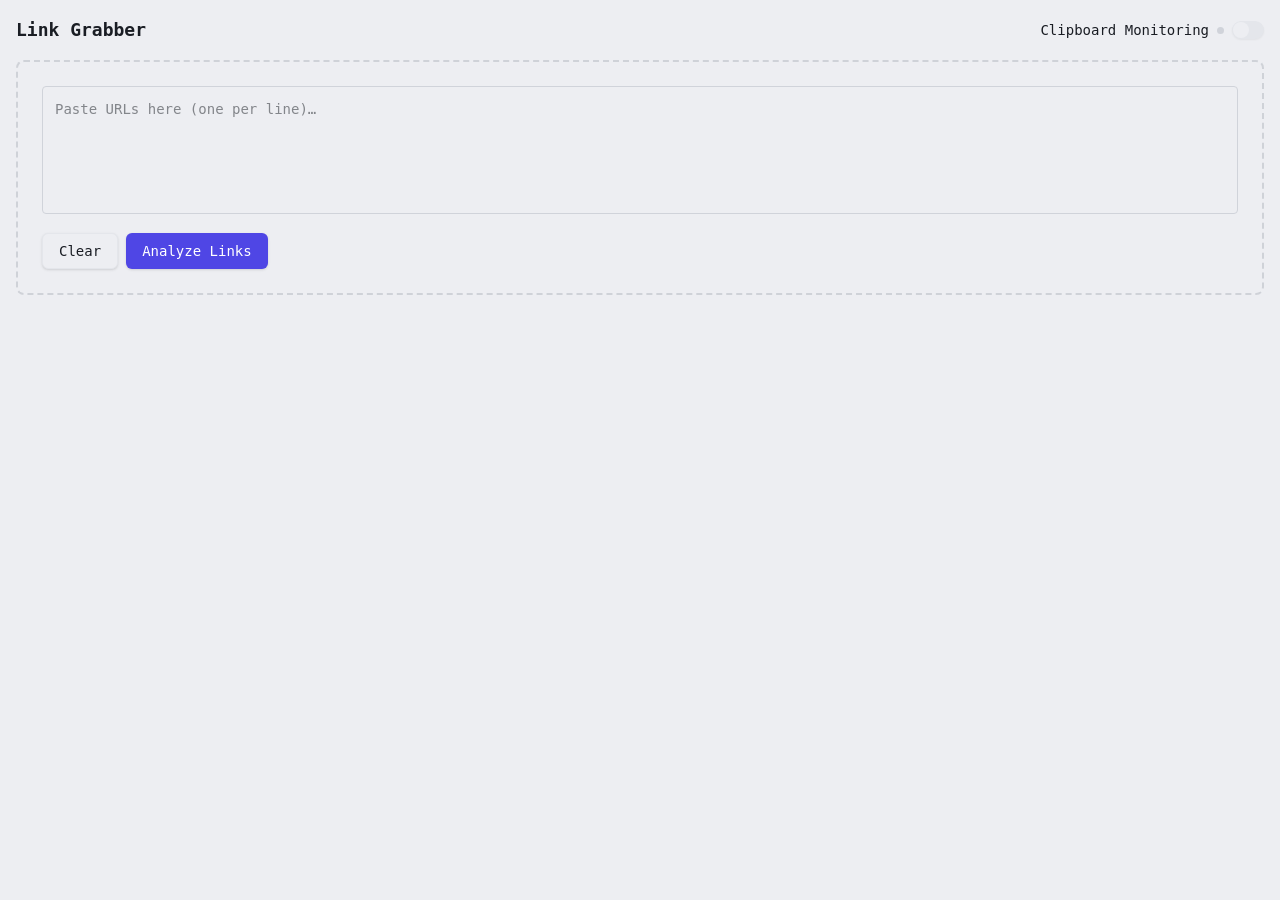
it: LinkGrabberView › keeps plugin statuses authoritative instead of probing hoster page URLs
The image size is (1280, 900).
Step 1. Type "https://www.mediafire.com/file/abc" into the text box → (640, 150), box [42,86,1238,214]
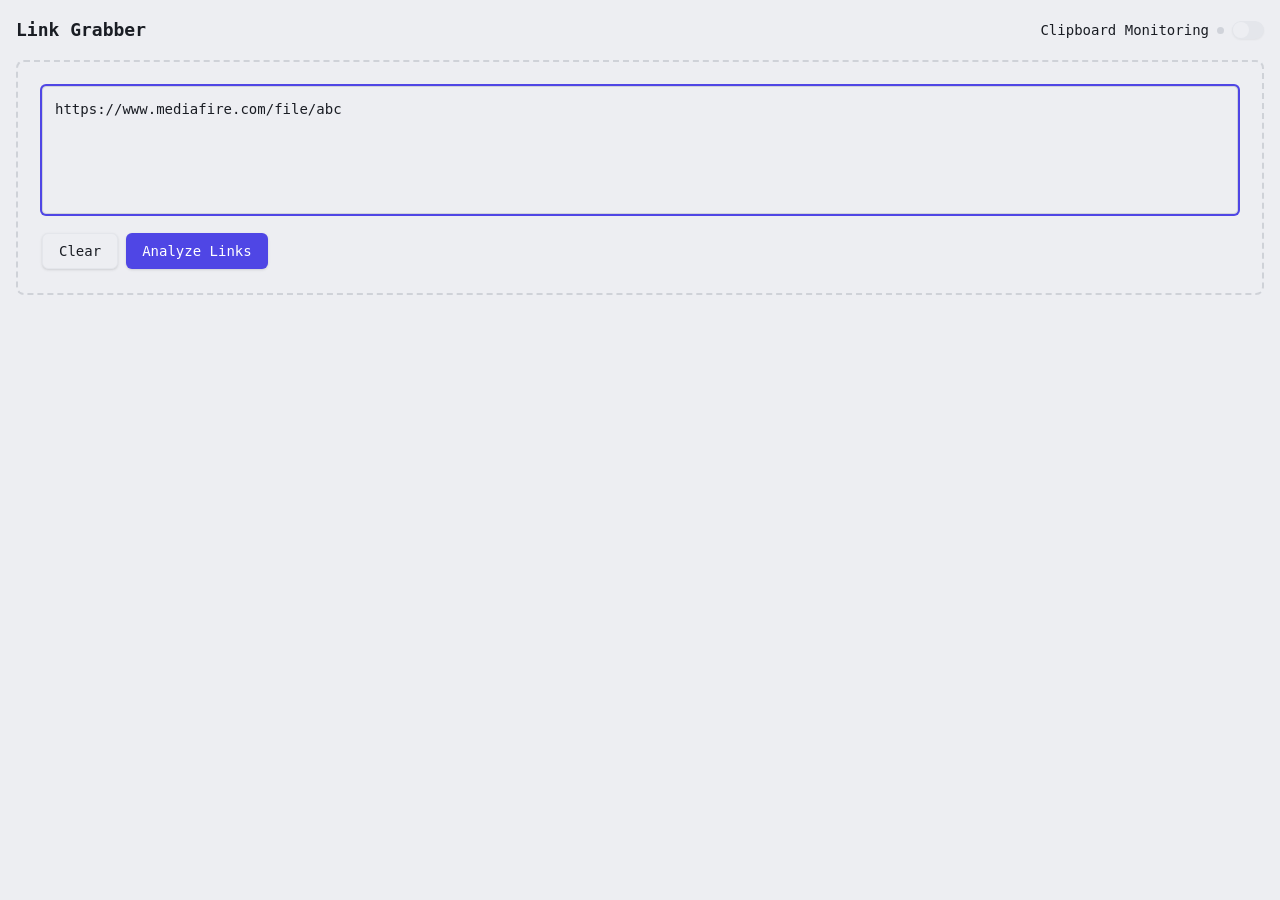
Step 2. Click the button "Analyze Links" → (197, 251), box [126,233,268,269]
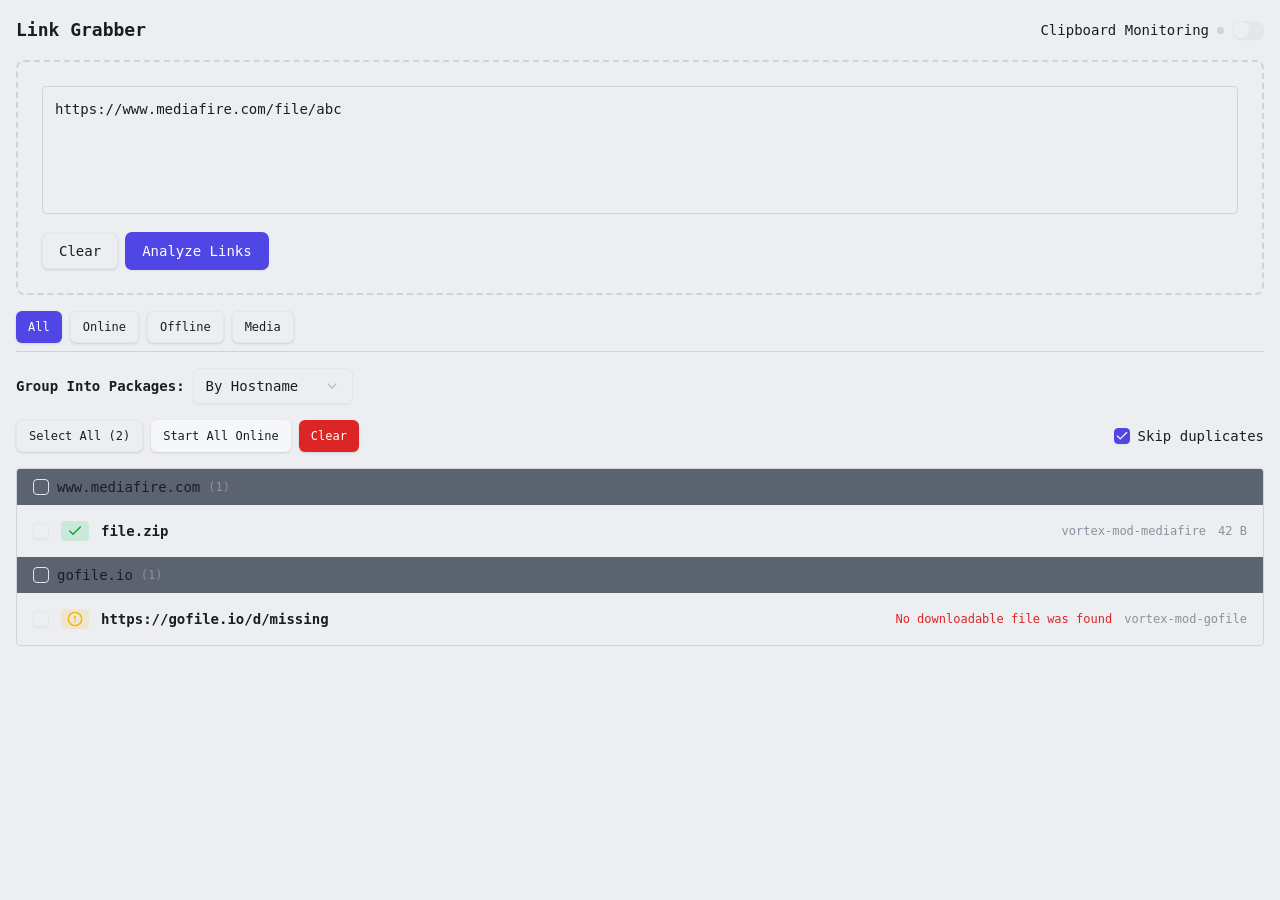
expect the text "No downloadable file was found" is shown: met, box [895,611,1112,627]
